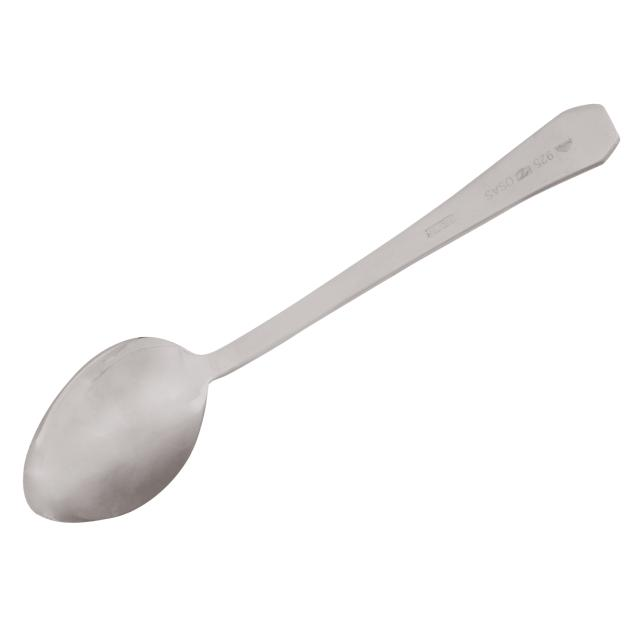spoon: (15, 96, 625, 533)
